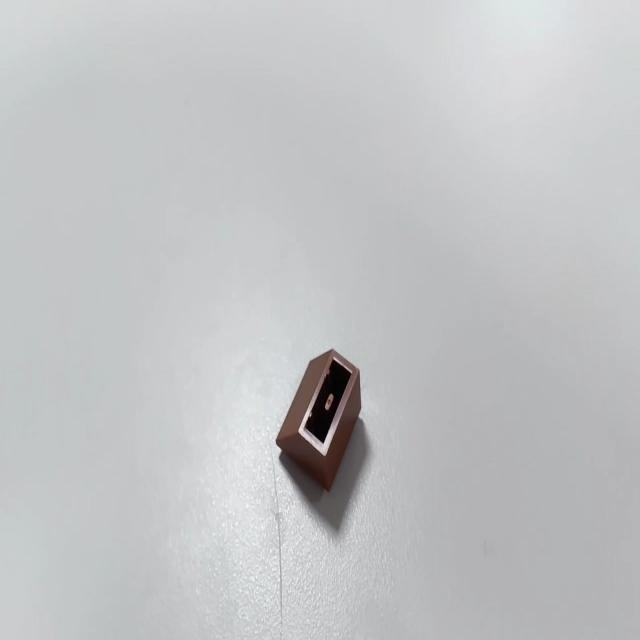X2x2x1: (275, 346, 362, 492)
